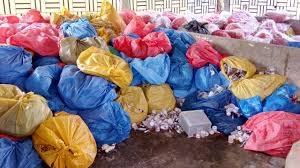plastic: (36, 110, 103, 168), (57, 63, 124, 113), (1, 82, 52, 141), (243, 109, 300, 157), (79, 97, 134, 145), (79, 47, 140, 87), (9, 21, 65, 61), (112, 31, 179, 58), (133, 53, 176, 88), (1, 47, 32, 92), (217, 55, 260, 86), (187, 39, 227, 72)
